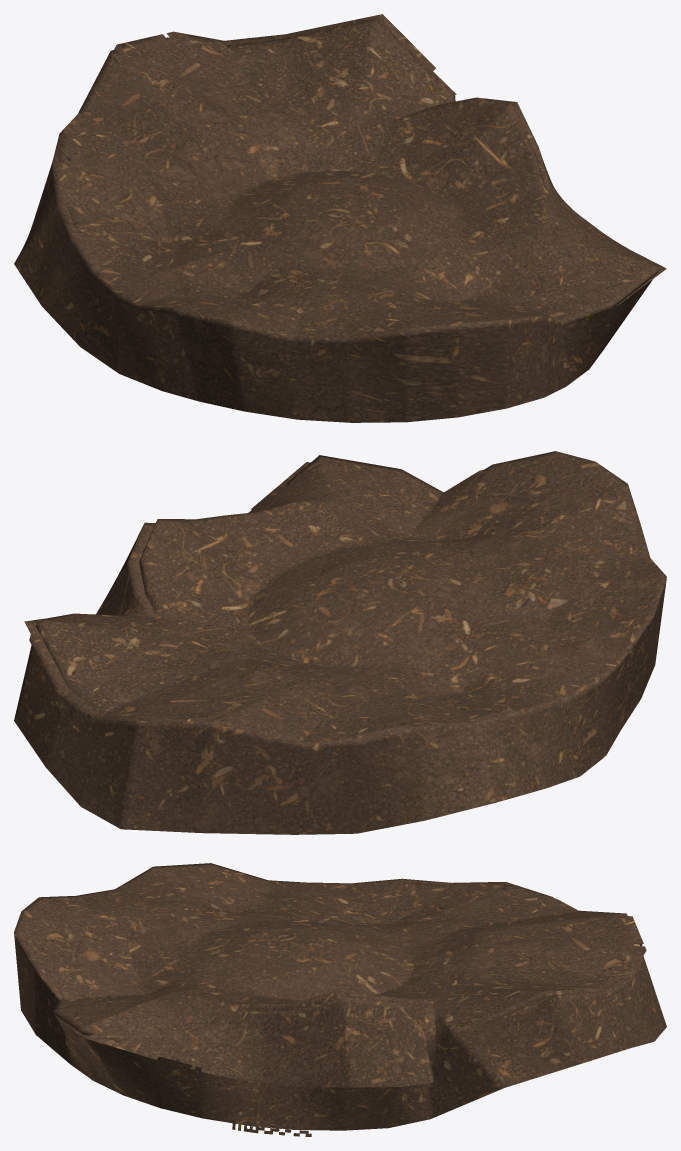
Rendered from adaalt.fbx.
3 renders of one model, top to bottom at view 1: azimuth 30°, elevation 25°; view 2: azimuth 150°, elevation 25°; view 3: azimuth 270°, elevation 25°, orthographic. The views are drawn at different scales.
Visible parts, largest first — view 1: adaalt; view 2: adaalt; view 3: adaalt.
Part boxes in pixels (left/top/right/bottom): adaalt: left=14, top=14, right=666, bottom=422; adaalt: left=14, top=451, right=666, bottom=834; adaalt: left=14, top=863, right=666, bottom=1136.
Bounding box in the file's own units: 12874 × 4172 × 18466.
